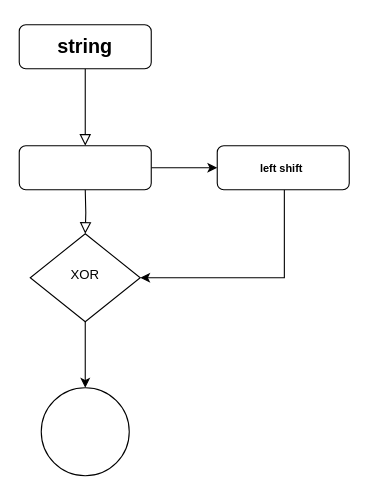
The diagram is 369 pixels wide and 495 high, and some of its shapes have lost their labels. The shapes that lost their labels are listed below. From the top down, each one's box as (x1, y1, x2, y2) in pixels, then its label:
(18, 145, 151, 190): converts into binary
(40, 387, 129, 476): display encoded text
